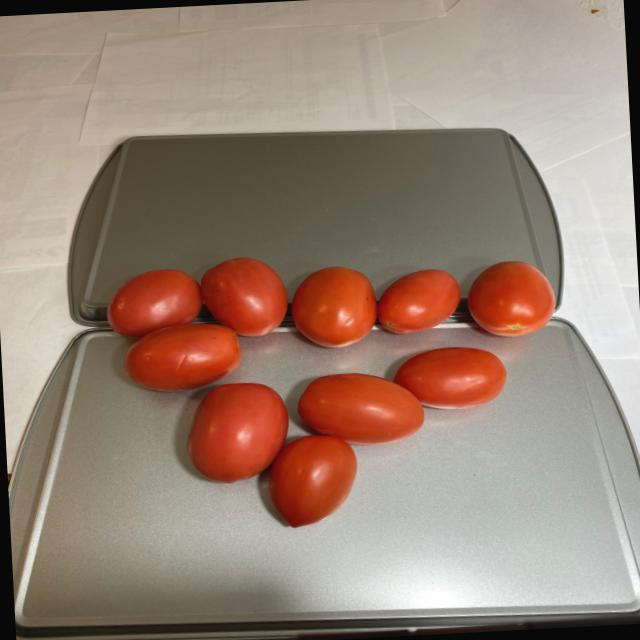tomato: (102, 240, 566, 545)
